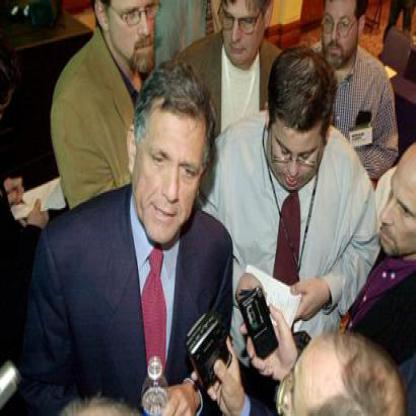face: (136, 77, 207, 249), (271, 63, 330, 194), (109, 1, 164, 78), (219, 1, 267, 68), (321, 1, 360, 71)
